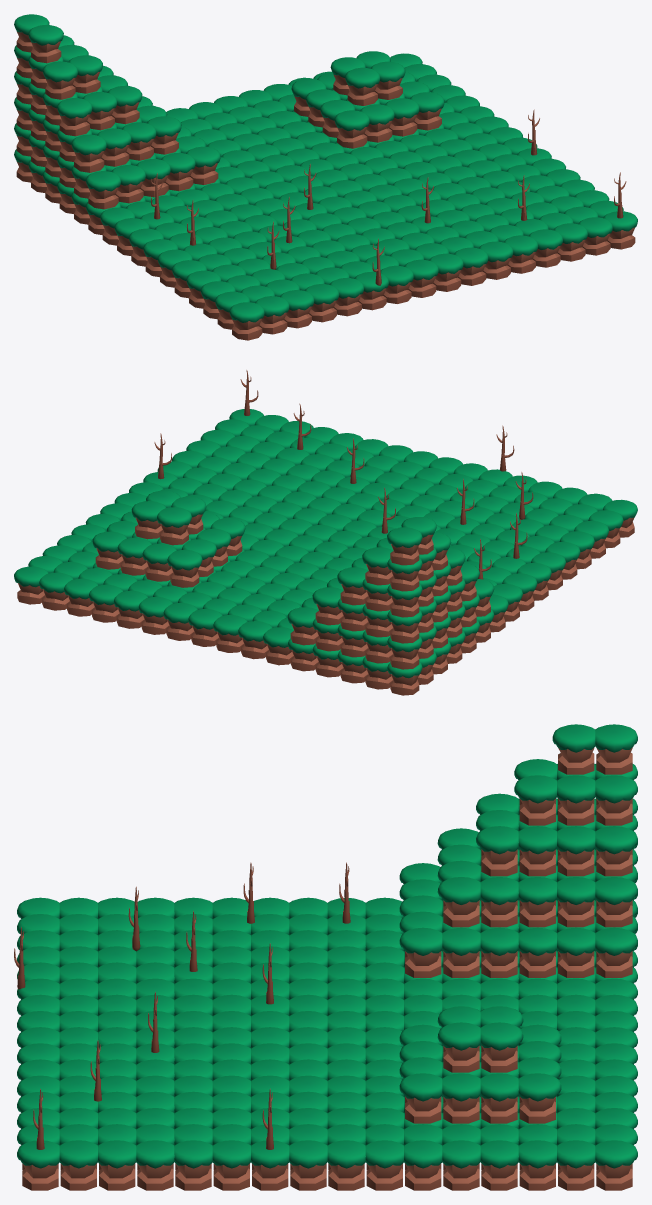
Rendered from deadTreesBiome.fbx.
3 renders of one model, top to bottom at view 1: azimuth 30°, elevation 25°; view 2: azimuth 150°, elevation 25°; view 3: azimuth 270°, elevation 25°, orthographic. The views are drawn at different scales.
Visible parts, largest first — view 1: Hill_2x2x2_Color2.392, Hill_2x2x2_Color2.297, Hill_2x2x2_Color2.361, Hill_2x2x2_Color2.362, Hill_2x2x2_Color2.390, Hill_2x2x2_Color2.383, Hill_2x2x2_Color2.305, Hill_2x2x2_Color2.216, Hill_2x2x2_Color2.355, Hill_2x2x2_Color2.385, Hill_2x2x2_Color2.366, Hill_2x2x2_Color2.303 (+39 smaller); view 2: Hill_2x2x2_Color2.391, Hill_2x2x2_Color2.294, Hill_2x2x2_Color2.304, Hill_2x2x2_Color2.300, Hill_2x2x2_Color2.044, Hill_2x2x2_Color2.289, Hill_2x2x2_Color2.062, Hill_2x2x2_Color2.290, Hill_2x2x2_Color2.306, Hill_2x2x2_Color2.056, Hill_2x2x2_Color2.059, Hill_2x2x2_Color2.065 (+44 smaller); view 3: Hill_2x2x2_Color2.303, Hill_2x2x2_Color2.300, Hill_2x2x2_Color2.342, Hill_2x2x2_Color2.306, Hill_2x2x2_Color2.307, Hill_2x2x2_Color2.392, Hill_2x2x2_Color2.338, Hill_2x2x2_Color2.044, Hill_2x2x2_Color2.371, Hill_2x2x2_Color2.368, Hill_2x2x2_Color2.378, Hill_2x2x2_Color2.391 (+177 smaller).
Part boxes in pixels (left/top/right/bottom): Hill_2x2x2_Color2.392: left=28, top=25, right=63, bottom=63; Hill_2x2x2_Color2.297: left=334, top=110, right=369, bottom=148; Hill_2x2x2_Color2.361: left=71, top=134, right=106, bottom=172; Hill_2x2x2_Color2.362: left=86, top=171, right=120, bottom=209; Hill_2x2x2_Color2.390: left=42, top=61, right=77, bottom=99; Hill_2x2x2_Color2.383: left=57, top=98, right=92, bottom=136; Hill_2x2x2_Color2.305: left=345, top=67, right=380, bottom=105; Hill_2x2x2_Color2.216: left=229, top=302, right=264, bottom=340; Hill_2x2x2_Color2.355: left=97, top=128, right=131, bottom=166; Hill_2x2x2_Color2.385: left=68, top=55, right=102, bottom=93; Hill_2x2x2_Color2.366: left=186, top=146, right=220, bottom=184; Hill_2x2x2_Color2.303: left=410, top=92, right=444, bottom=130; Hill_2x2x2_Color2.391: left=387, top=527, right=422, bottom=565; Hill_2x2x2_Color2.294: left=167, top=549, right=202, bottom=587; Hill_2x2x2_Color2.304: left=157, top=507, right=191, bottom=545; Hill_2x2x2_Color2.300: left=92, top=531, right=126, bottom=569; Hill_2x2x2_Color2.044: left=14, top=566, right=48, bottom=604; Hill_2x2x2_Color2.289: left=142, top=543, right=176, bottom=581; Hill_2x2x2_Color2.062: left=163, top=603, right=197, bottom=640; Hill_2x2x2_Color2.290: left=117, top=537, right=151, bottom=575; Hill_2x2x2_Color2.306: left=131, top=501, right=165, bottom=539; Hill_2x2x2_Color2.056: left=113, top=590, right=147, bottom=628; Hill_2x2x2_Color2.059: left=138, top=596, right=172, bottom=634; Hill_2x2x2_Color2.065: left=188, top=609, right=222, bottom=646; Hill_2x2x2_Color2.303: left=399, top=1073, right=442, bottom=1123; Hill_2x2x2_Color2.300: left=518, top=1073, right=561, bottom=1123; Hill_2x2x2_Color2.342: left=437, top=877, right=480, bottom=927; Hill_2x2x2_Color2.306: left=480, top=1022, right=523, bottom=1072; Hill_2x2x2_Color2.307: left=437, top=1022, right=480, bottom=1072; Hill_2x2x2_Color2.392: left=552, top=724, right=595, bottom=774; Hill_2x2x2_Color2.338: left=595, top=877, right=637, bottom=927; Hill_2x2x2_Color2.044: left=595, top=1140, right=637, bottom=1190; Hill_2x2x2_Color2.371: left=476, top=826, right=518, bottom=876; Hill_2x2x2_Color2.368: left=595, top=826, right=637, bottom=876; Hill_2x2x2_Color2.378: left=595, top=775, right=637, bottom=825; Hill_2x2x2_Color2.391: left=595, top=724, right=637, bottom=774.
Size of the model in its own units: 3250 by 1201 by 3266.
